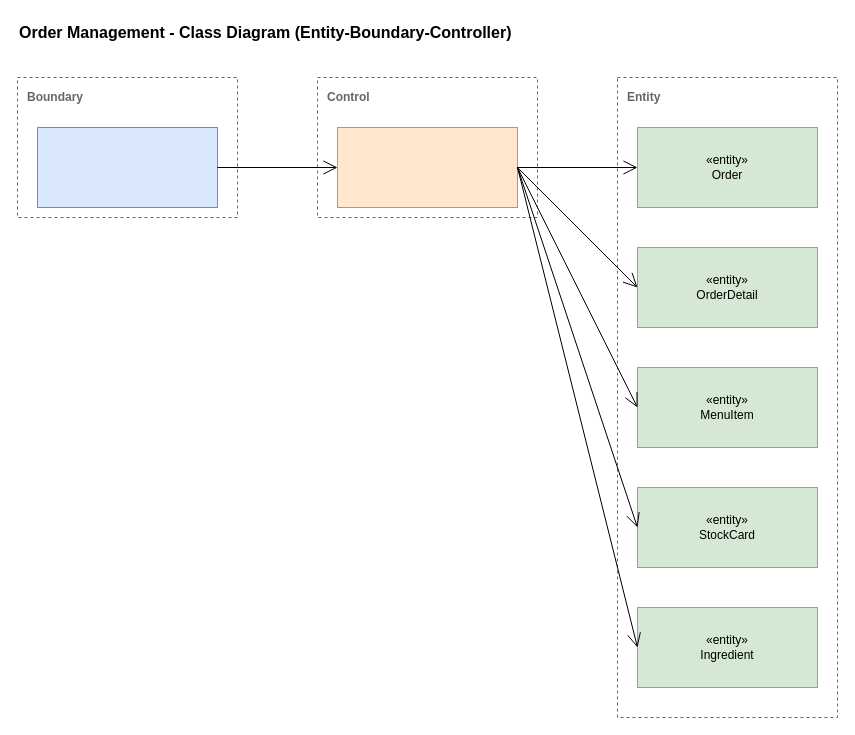
Image size: 855x735. Some labels were removed from this diagram. The shapes that lost their labels are listed below. From the top down, each one's centre as x and y in pixels, then its label:
At (127,167): "«boundary» OrderBoundary".
At (427,167): "«control» PlaceOrderController".
